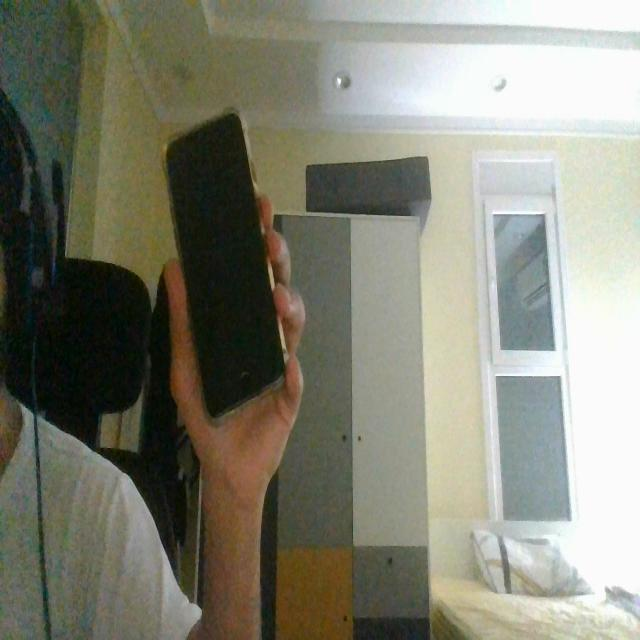Phone: (161, 108, 292, 440)
